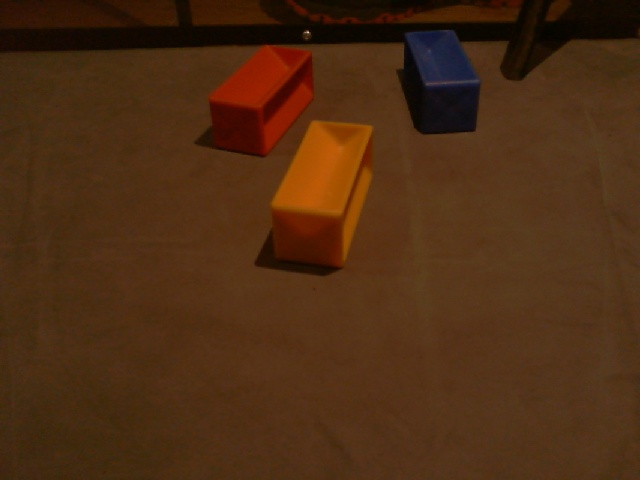BlueSample: (401, 29, 481, 134)
RedSample: (207, 45, 316, 157)
YellowSample: (264, 119, 380, 271)
